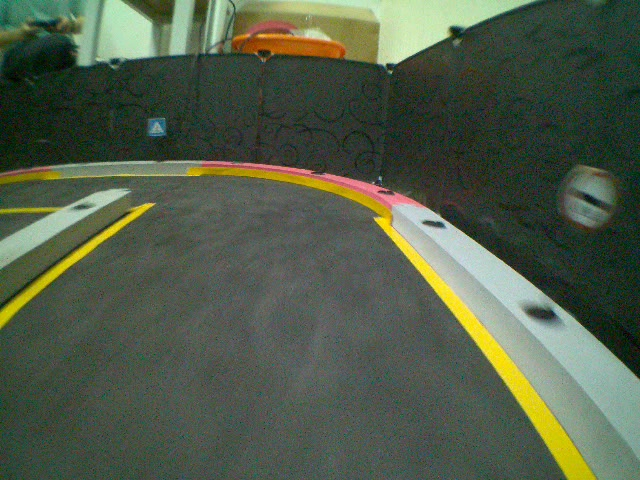crossing: (147, 115, 167, 136)
